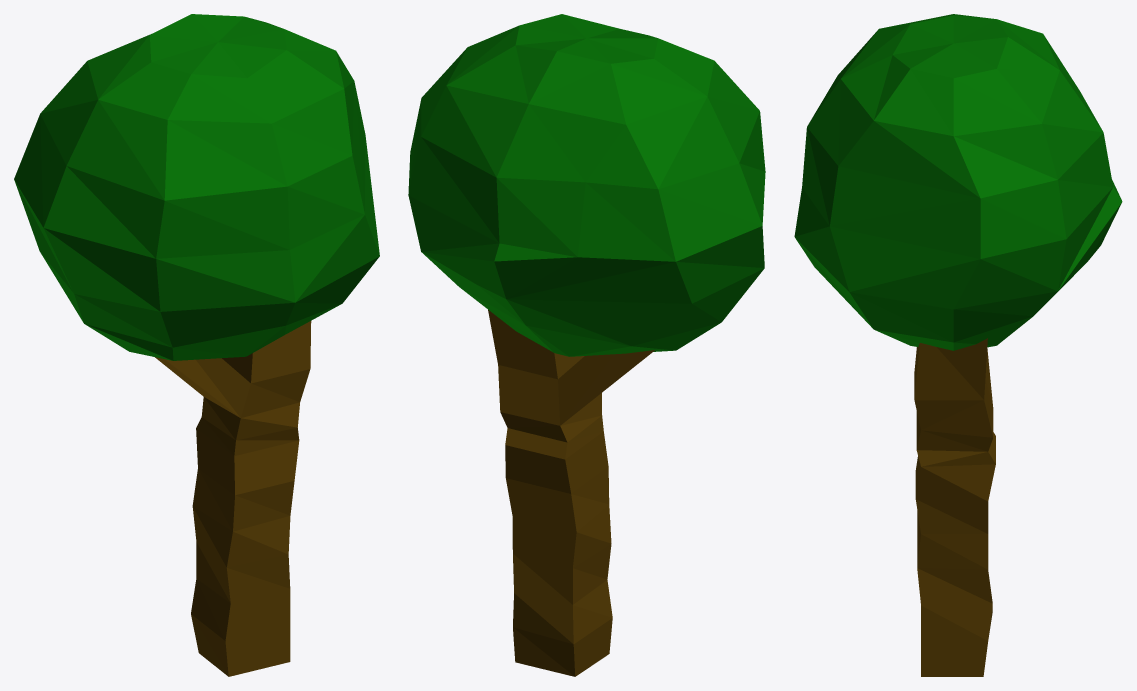
The model's file is TreeAttempt.fbx.
3 renders of one model, left to right at view 1: azimuth 30°, elevation 25°; view 2: azimuth 150°, elevation 25°; view 3: azimuth 270°, elevation 25°, orthographic. The views are drawn at different scales.
Visible parts, largest first — view 1: pSphere1, pCube1; view 2: pSphere1, pCube1; view 3: pSphere1, pCube1.
Part boxes in pixels (x1,y1,x2,y2): pSphere1: (14, 14, 379, 360); pCube1: (155, 321, 311, 676); pSphere1: (408, 14, 765, 356); pCube1: (488, 310, 654, 676); pSphere1: (794, 14, 1122, 350); pCube1: (914, 338, 995, 676).
Bounding box in the file's own units: 5.64 × 10.09 × 4.89.
